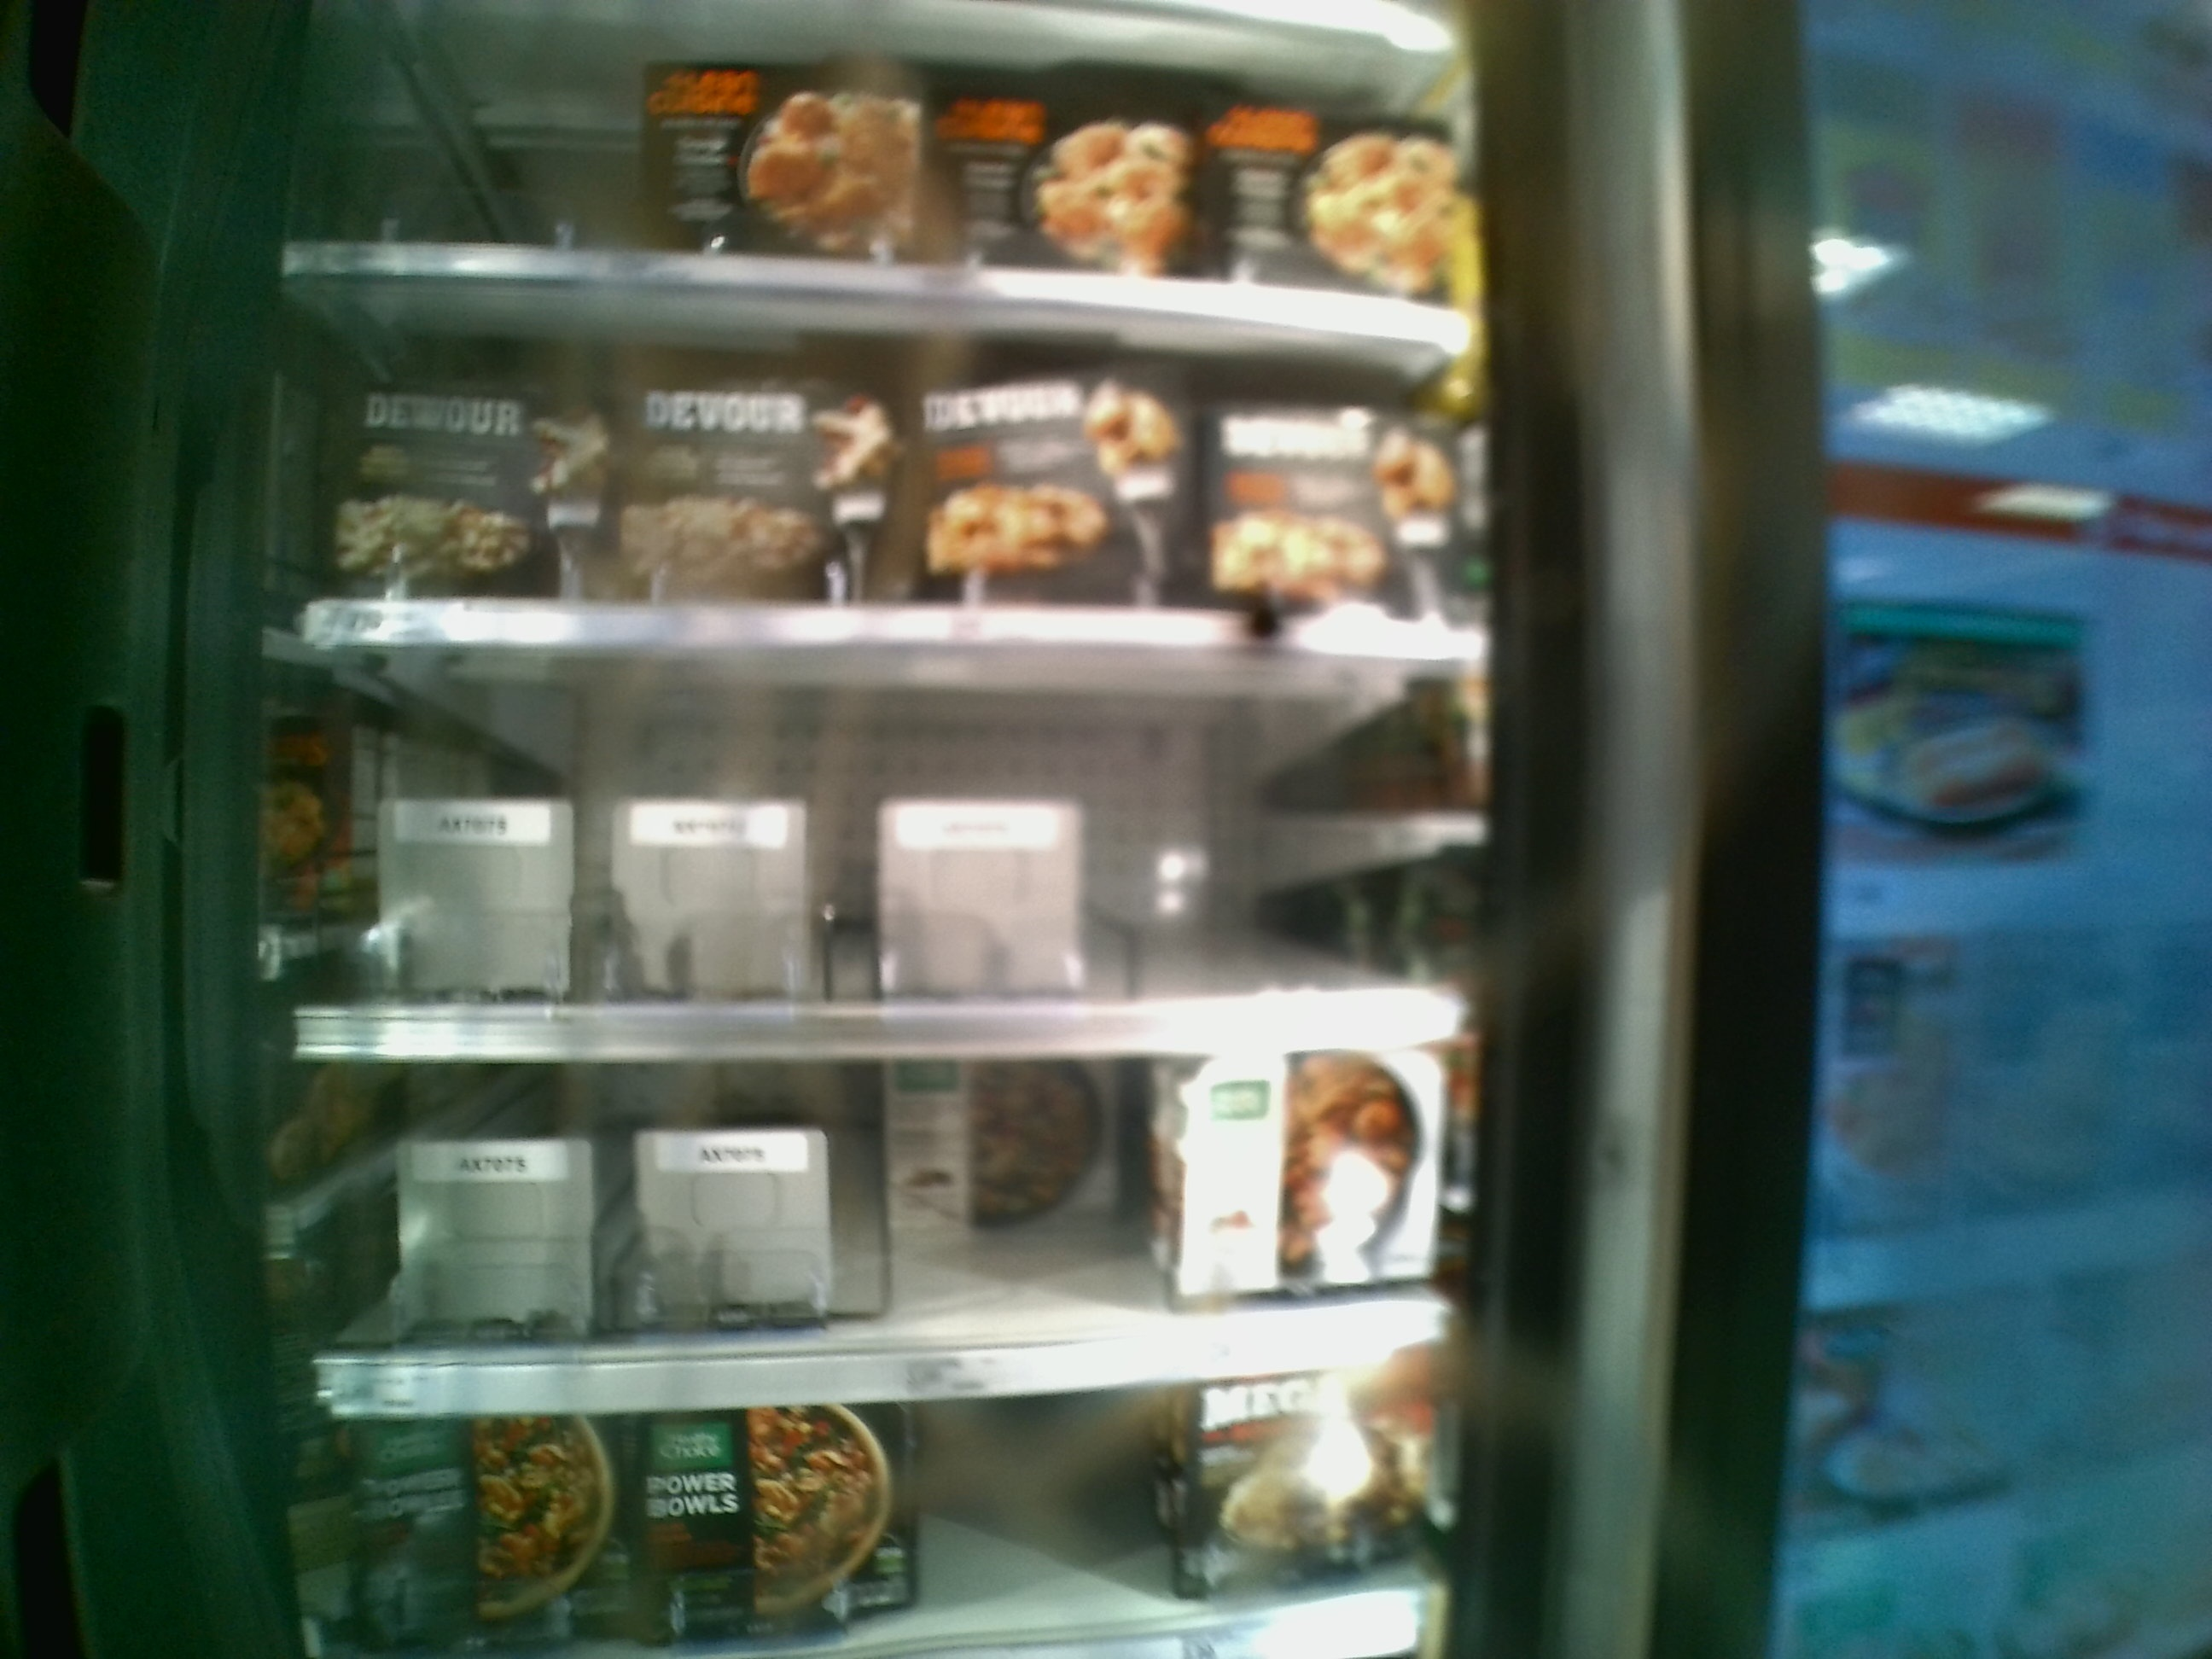Shelf: (294, 648, 1479, 1053), (280, 272, 1480, 653), (291, 1049, 1468, 1422)
